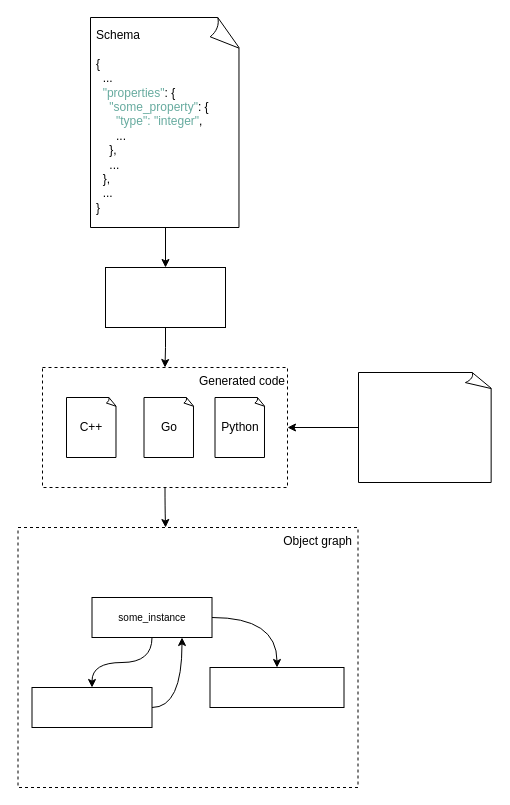
The diagram is 510 pixels wide and 805 high, and some of its shapes have lost their labels. Each missing label, with the box of its shape:
another_instance: (31, 686, 152, 728)
JSONable { "some_property" : 4 , ... }: (358, 372, 492, 482)
Mapry: (104, 266, 226, 328)
yet_another_instance: (209, 666, 344, 708)
